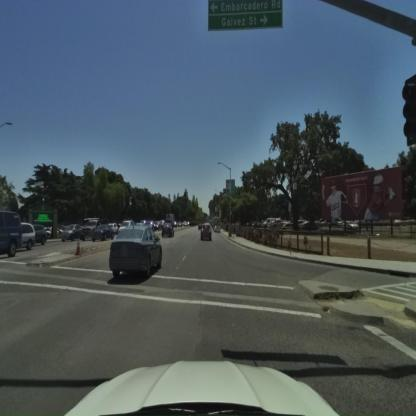car: (108, 225, 164, 284), (22, 223, 47, 250), (91, 224, 117, 241), (60, 225, 83, 243), (32, 223, 47, 244), (162, 219, 174, 237), (200, 223, 211, 240), (121, 220, 134, 228)
sign: (206, 0, 286, 30)
truck: (0, 212, 23, 258)
